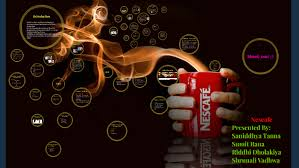nescafe-mug: (173, 68, 230, 135)
